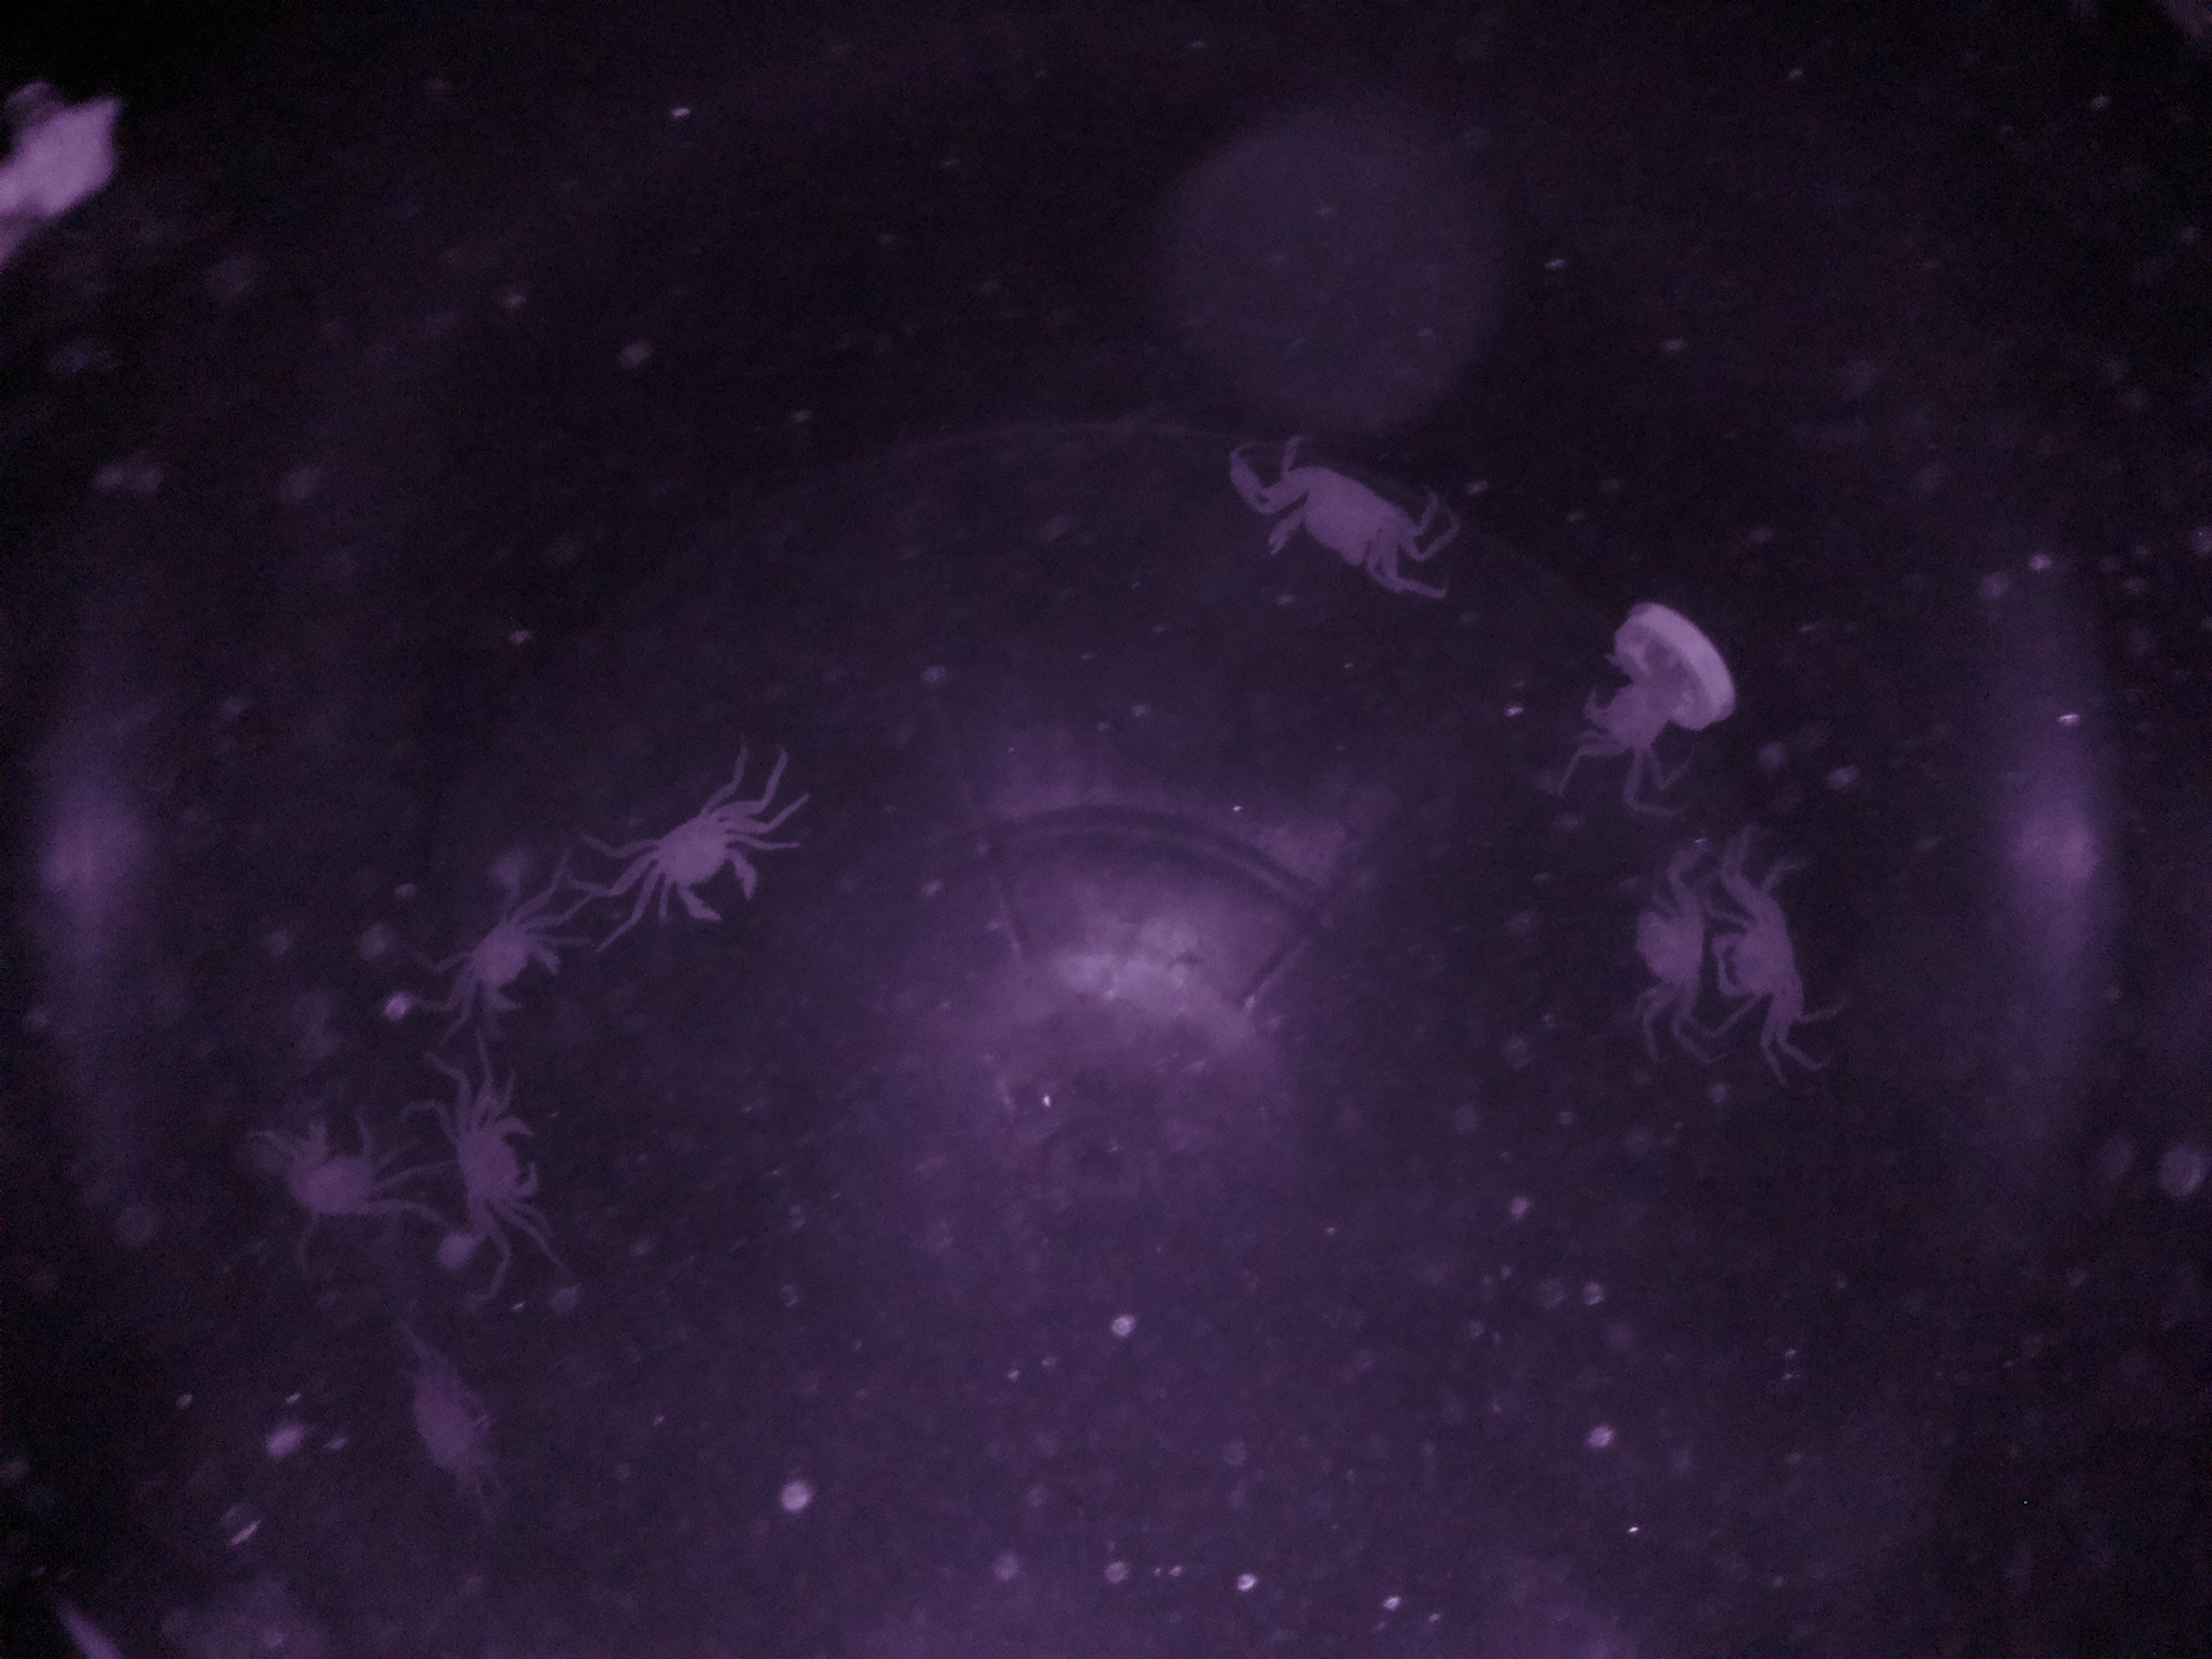Crab: (1235, 437, 1442, 608), (1716, 824, 1836, 1080), (603, 782, 775, 950), (256, 1089, 421, 1241), (434, 1073, 561, 1251), (451, 871, 578, 1039), (1604, 833, 1705, 1026)
